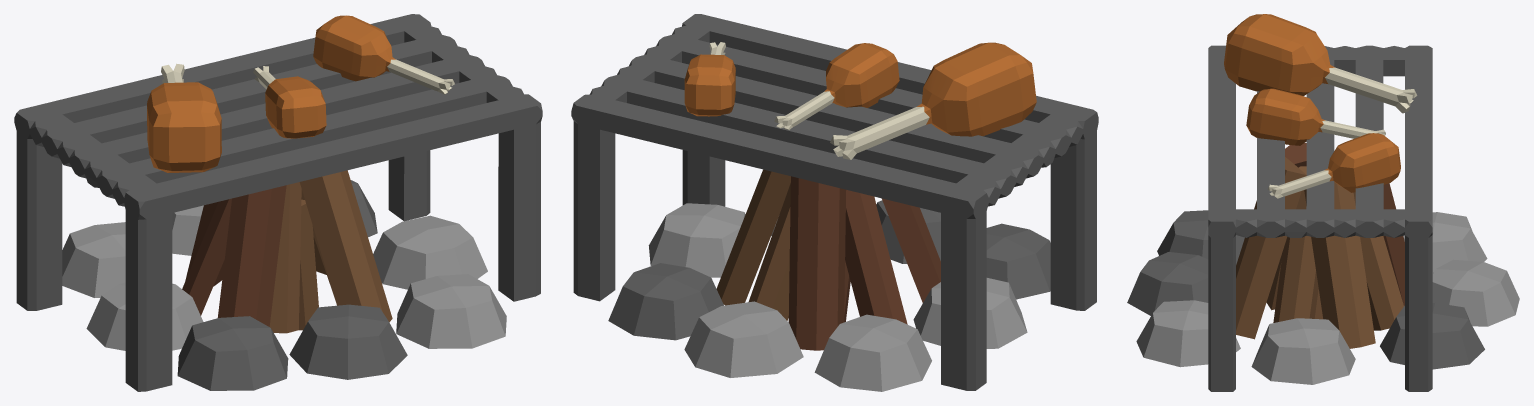
File: BonFireBBQ.fbx
3 views of the same model, side by side, from view 1: azimuth 30°, elevation 25°; view 2: azimuth 150°, elevation 25°; view 3: azimuth 270°, elevation 25° (orthographic). The views are drawn at different scales.
Visible parts, largest first — view 1: BonfireBBQ; view 2: BonfireBBQ; view 3: BonfireBBQ.
Boxes of the visible parts, x1,y1,x2,y2 form: BonfireBBQ: (14,14,542,391); BonfireBBQ: (571,14,1098,391); BonfireBBQ: (1127,14,1519,391).
Size of the model in its own units: 0.9319 by 0.6237 by 0.8791.
Materials: 1 (1 with a texture image).
